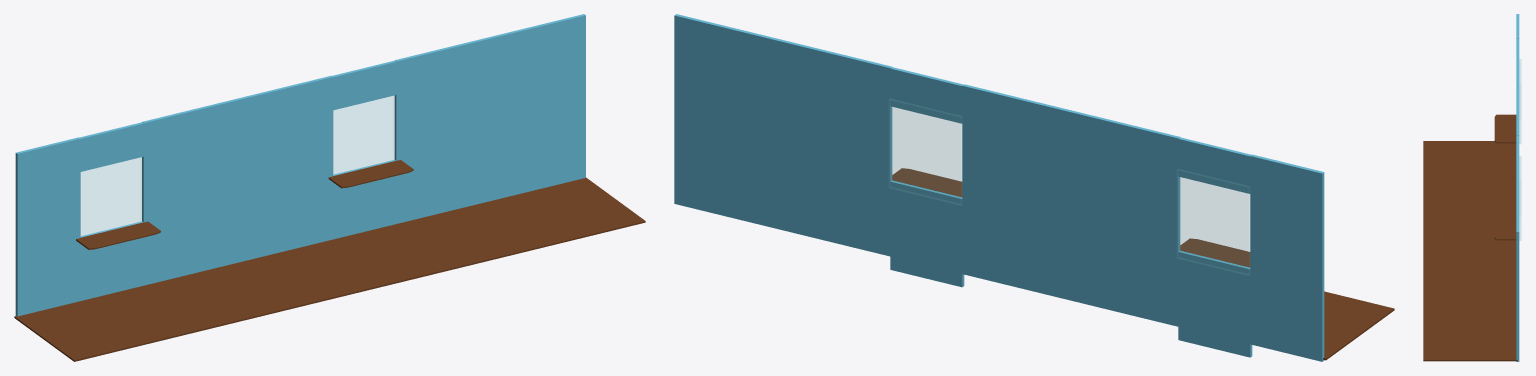
Rendered from room1.fbx.
3 views of the same model, side by side, from view 1: azimuth 30°, elevation 25°; view 2: azimuth 150°, elevation 25°; view 3: azimuth 270°, elevation 25° (orthographic). The views are drawn at different scales.
Visible parts, largest first — view 1: Cube.001, Cube, Cube.014, Cube.015, Cube.008, Cube.013, Cube.002, Cube.007, Cube.011, Cube.005, Cube.003, Cube.009 (+4 smaller); view 2: Cube, Cube.002, Cube.013, Cube.007, Cube.014, Cube.008, Cube.015, Cube.009, Cube.003, Cube.011, Cube.005, Cube.010 (+4 smaller); view 3: Cube.001, Cube.012, Cube.006, Cube.015, Cube.005, Cube.011, Cube, Cube.002, Cube.013, Cube.007, Cube.008, Cube.010 (+2 smaller).
Boxes of the visible parts, bbox=[...] form: Cube.001: bbox=[14, 177, 645, 361]; Cube: bbox=[15, 137, 80, 316]; Cube.014: bbox=[458, 29, 522, 208]; Cube.015: bbox=[521, 14, 585, 192]; Cube.008: bbox=[268, 75, 333, 254]; Cube.013: bbox=[394, 45, 459, 223]; Cube.002: bbox=[142, 106, 206, 285]; Cube.007: bbox=[205, 91, 269, 270]; Cube.011: bbox=[333, 96, 394, 173]; Cube.005: bbox=[81, 157, 141, 235]; Cube.003: bbox=[80, 221, 143, 300]; Cube.009: bbox=[333, 159, 396, 239]; Cube: bbox=[1250, 154, 1324, 361]; Cube.002: bbox=[1106, 119, 1180, 326]; Cube.013: bbox=[818, 49, 892, 256]; Cube.007: bbox=[1034, 102, 1107, 308]; Cube.014: bbox=[746, 31, 819, 238]; Cube.008: bbox=[962, 84, 1035, 291]; Cube.015: bbox=[674, 14, 747, 221]; Cube.009: bbox=[890, 180, 964, 287]; Cube.003: bbox=[1178, 250, 1252, 357]; Cube.011: bbox=[889, 99, 961, 205]; Cube.005: bbox=[1177, 169, 1249, 275]; Cube.010: bbox=[890, 67, 963, 123]; Cube.001: bbox=[1423, 141, 1517, 361]; Cube.012: bbox=[1494, 211, 1516, 240]; Cube.006: bbox=[1494, 114, 1516, 143]; Cube.015: bbox=[1516, 208, 1519, 361]; Cube.005: bbox=[1519, 59, 1521, 143]; Cube.011: bbox=[1519, 156, 1521, 240]; Cube: bbox=[1516, 14, 1519, 38]; Cube.002: bbox=[1516, 62, 1519, 86]; Cube.013: bbox=[1516, 159, 1519, 183]; Cube.007: bbox=[1516, 86, 1519, 110]; Cube.008: bbox=[1516, 111, 1519, 135]; Cube.010: bbox=[1516, 135, 1519, 159].
Size of the model in its own units: 3618 by 1070 by 686.
